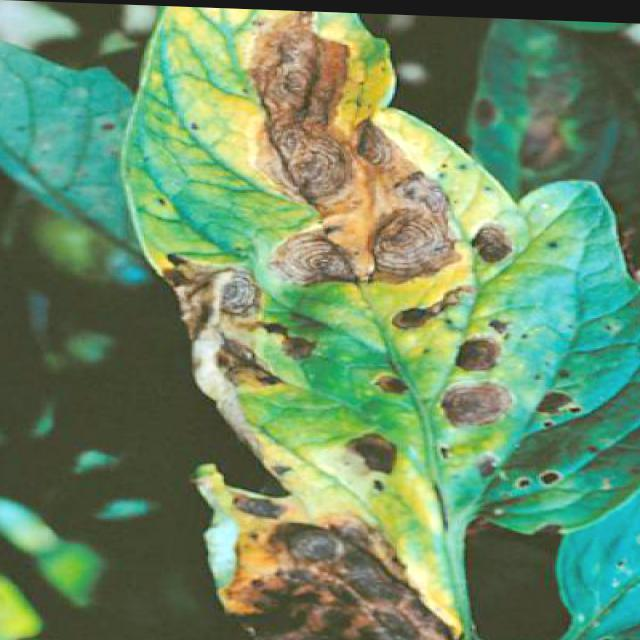Tomato Early blight leaf: (131, 5, 612, 639)
